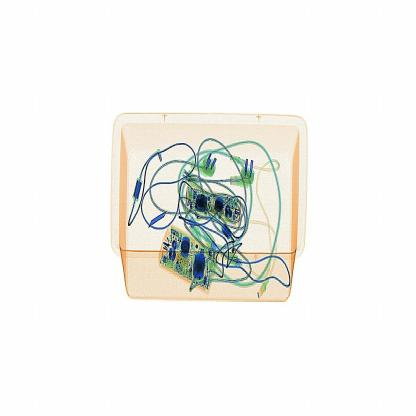pliers: (141, 200, 172, 234)
